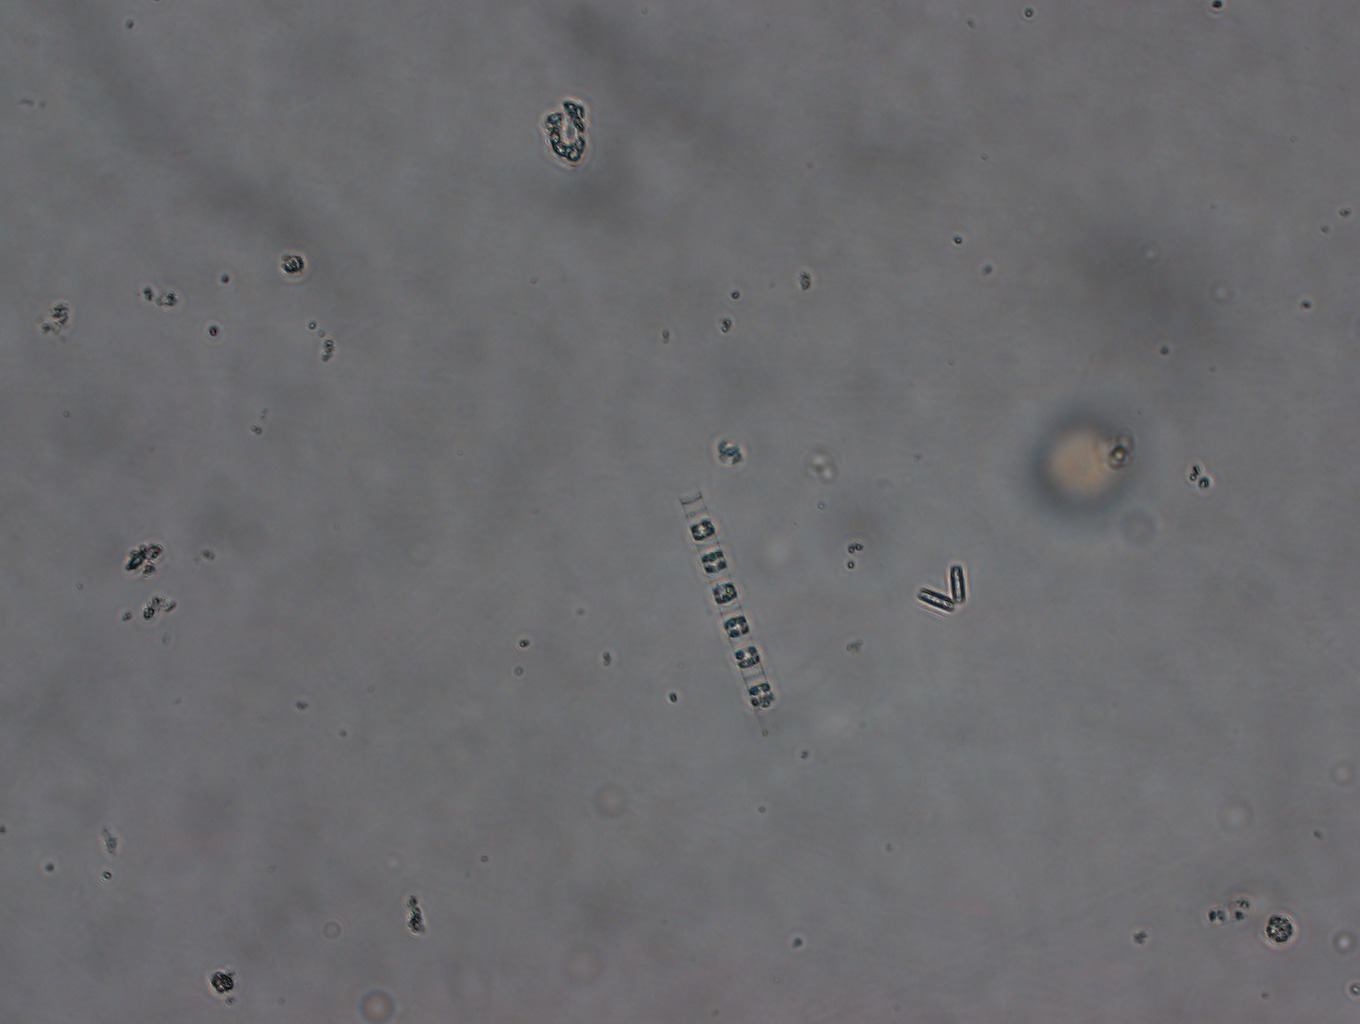skeletonema: (676, 475, 781, 716)
thalassionema nitzschioides: (916, 561, 967, 615)
